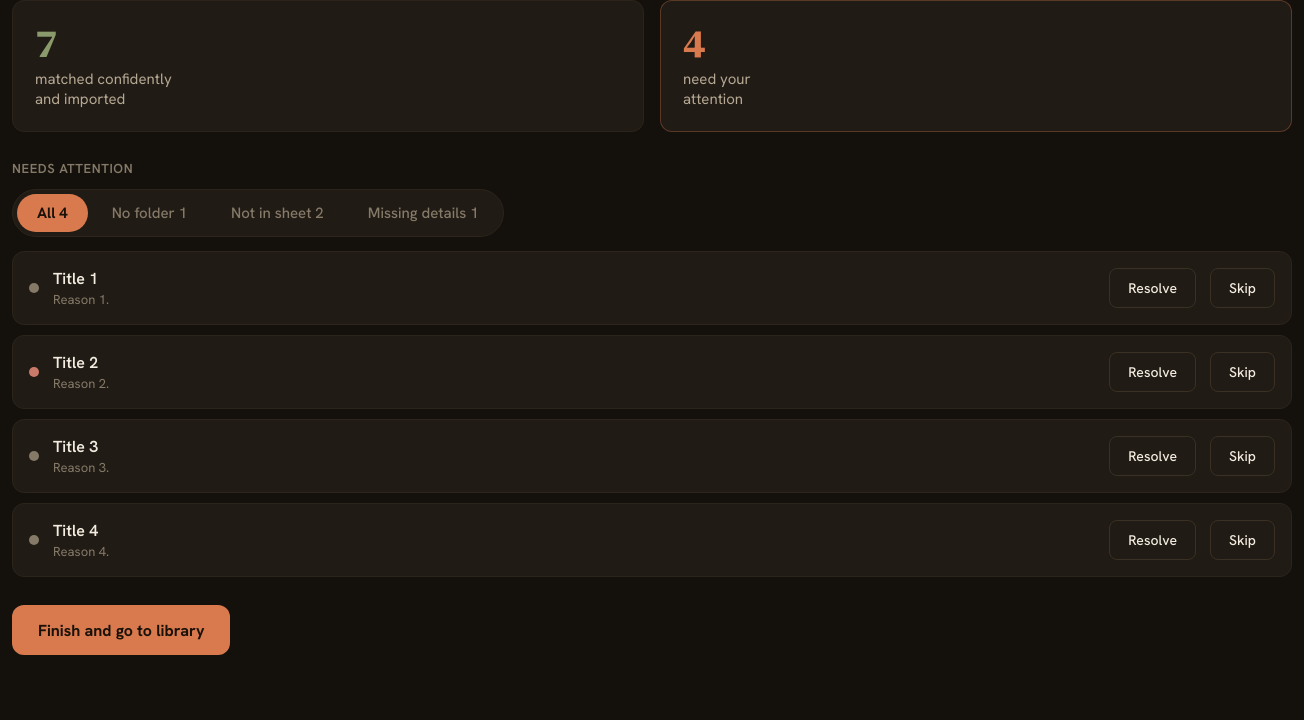
Test: ImportReview — the Kind filter › shows only the chosen kind’s rows once its pill is pressed
What coordinates should you click on to do the following:
click the button "Not in sheet 2"
I would click on:
 (277, 213)
Its box is [211,194,344,232].
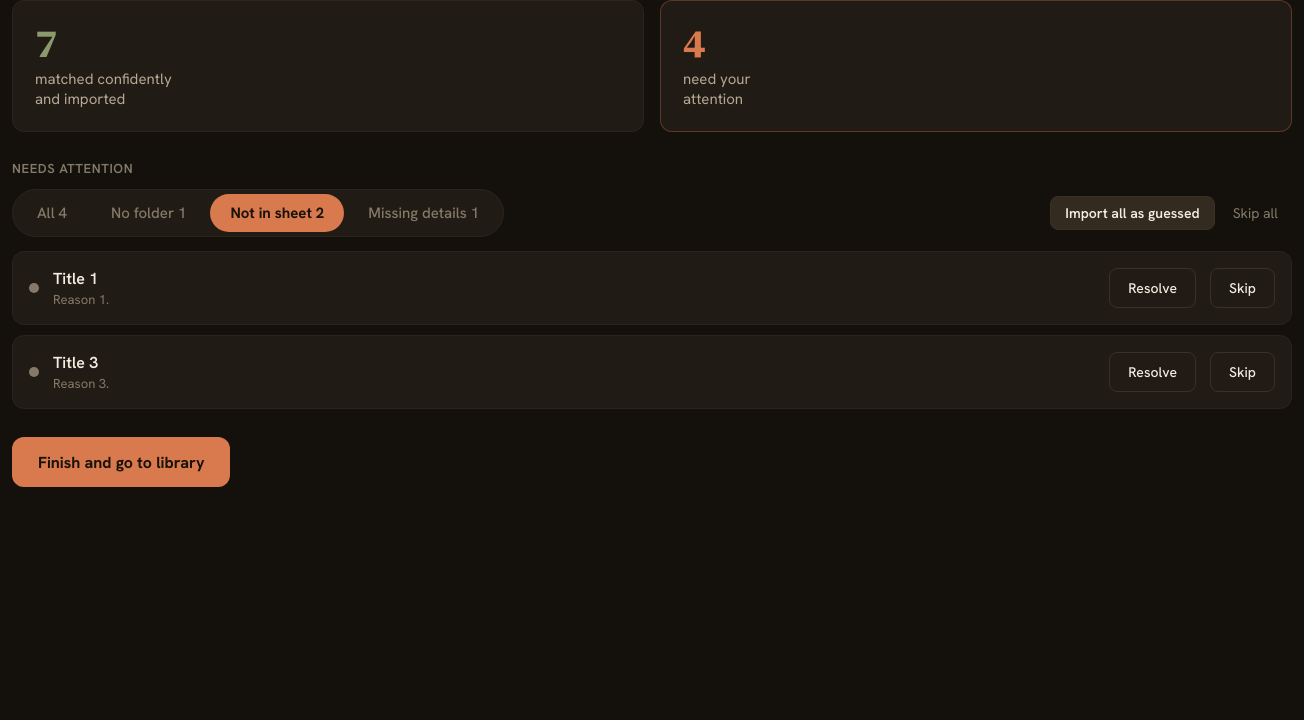
Check: the text "Reason 1." is shown, box [53,291,109,308]
Check: the text "Reason 2." is gone
Check: the text "Reason 4." is gone
